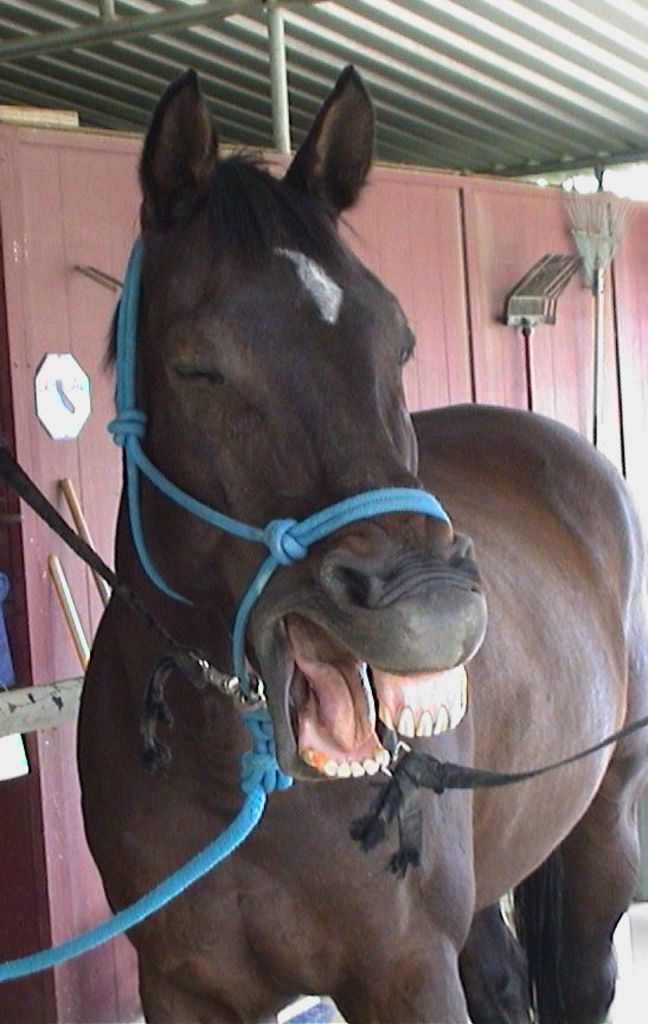Horse: (76, 65, 648, 1024)
